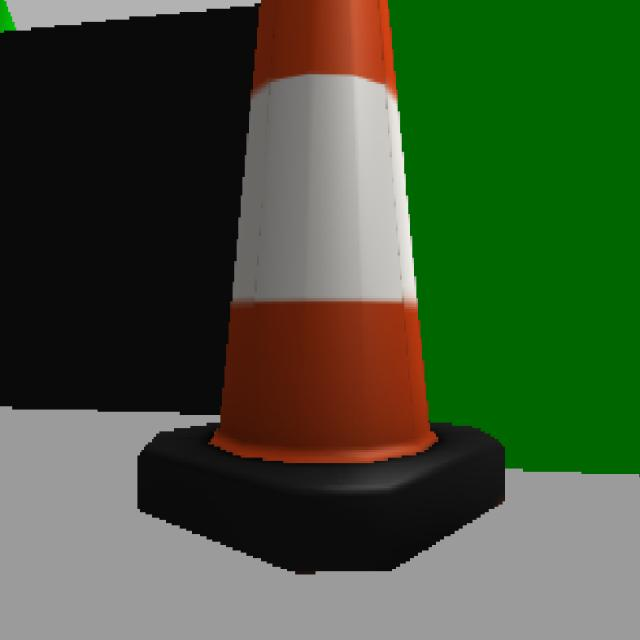cone: (131, 0, 507, 576)
